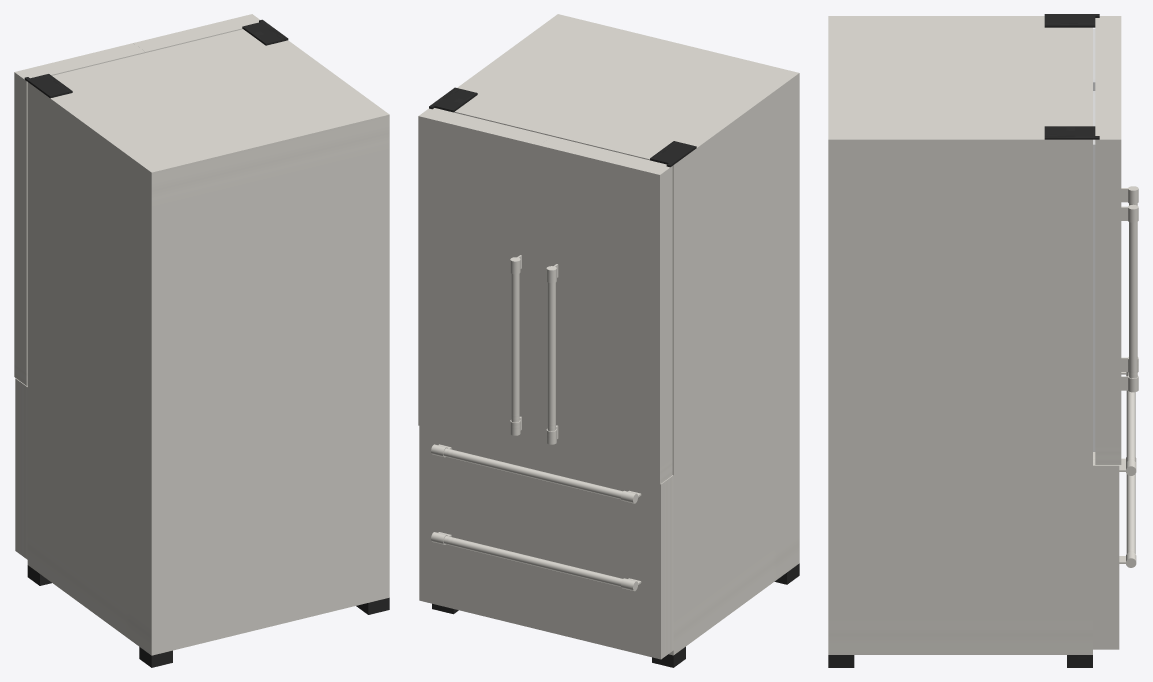
Rendered from Refrigerator06.glb.
The picture shows the model from 3 angles, left to right: view 1: azimuth 30°, elevation 25°; view 2: azimuth 150°, elevation 25°; view 3: azimuth 270°, elevation 25°; orthographic projection. The views are drawn at different scales.
Parts seen in each view (by area): view 1: Refrigerator06_model, Refrigerator06_Door02.001, Refrigerator06_Door02, Refrigerator04_Door03.001, Refrigerator04_Door03.002; view 2: Refrigerator06_model, Refrigerator06_Door02.001, Refrigerator06_Door02, Refrigerator04_Door03.002, Refrigerator04_Door03.001; view 3: Refrigerator06_model, Refrigerator06_Door02, Refrigerator04_Door03.002, Refrigerator04_Door03.001, Refrigerator06_Door02.001.
Part boxes in pixels (x1,y1,x2,y2): Refrigerator06_model: [24, 19, 389, 667]; Refrigerator06_Door02.001: [14, 43, 145, 385]; Refrigerator06_Door02: [133, 14, 259, 52]; Refrigerator04_Door03.001: [15, 378, 27, 473]; Refrigerator04_Door03.002: [15, 465, 27, 559]; Refrigerator06_model: [429, 14, 799, 667]; Refrigerator06_Door02.001: [539, 136, 672, 484]; Refrigerator06_Door02: [418, 108, 551, 454]; Refrigerator04_Door03.002: [419, 513, 673, 659]; Refrigerator04_Door03.001: [419, 426, 673, 571]; Refrigerator06_model: [828, 14, 1099, 667]; Refrigerator06_Door02: [1093, 78, 1138, 464]; Refrigerator04_Door03.002: [1093, 457, 1136, 649]; Refrigerator04_Door03.001: [1093, 372, 1136, 557]; Refrigerator06_Door02.001: [1093, 16, 1138, 372].
Size of the model in its own units: 2.04 by 4.08 by 2.16.
Materials: 1 (1 with a texture image).
